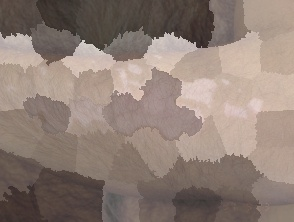vitiligo: (0, 42, 277, 156)
